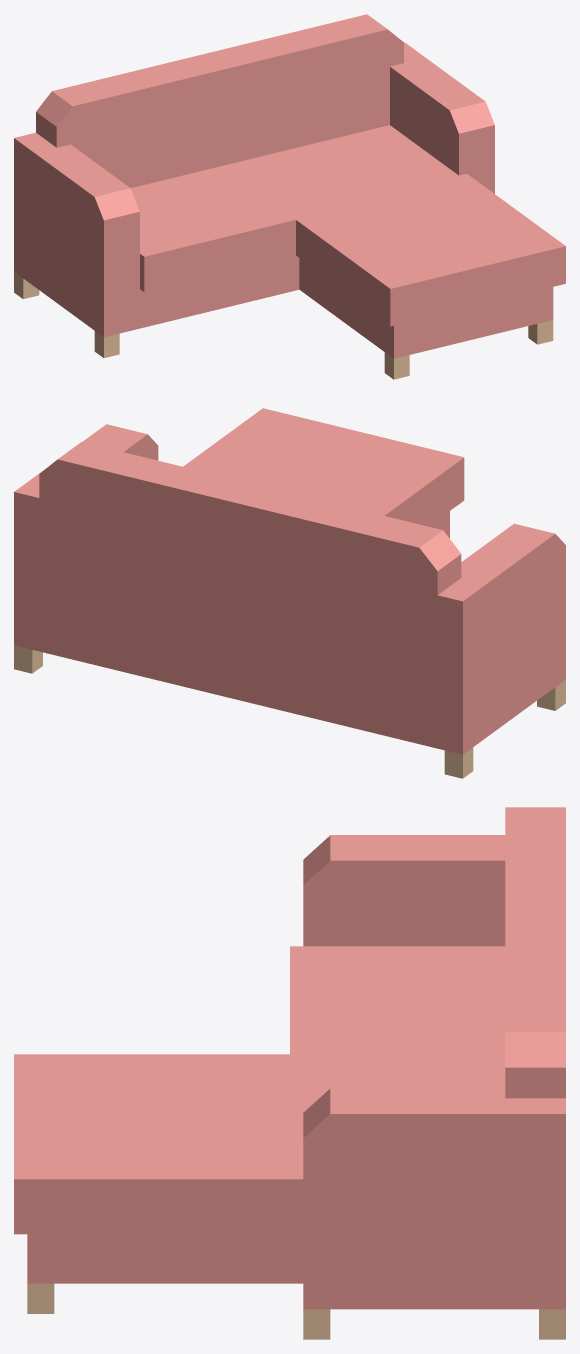
Rendered from loungeSofaLong.glb.
The picture shows the model from 3 angles, top to bottom: view 1: azimuth 30°, elevation 25°; view 2: azimuth 150°, elevation 25°; view 3: azimuth 270°, elevation 25°; orthographic projection. The views are drawn at different scales.
Visible parts, largest first — view 1: loungeSofaLong(Clone); view 2: loungeSofaLong(Clone); view 3: loungeSofaLong(Clone).
Boxes of the visible parts, box(x1,y1,x2,y2) form: loungeSofaLong(Clone): box(14, 14, 565, 379); loungeSofaLong(Clone): box(14, 408, 565, 778); loungeSofaLong(Clone): box(14, 807, 565, 1339).
Bounding box in the file's own units: 1.99 × 0.9338 × 1.66.
2 materials, 2 textured.
